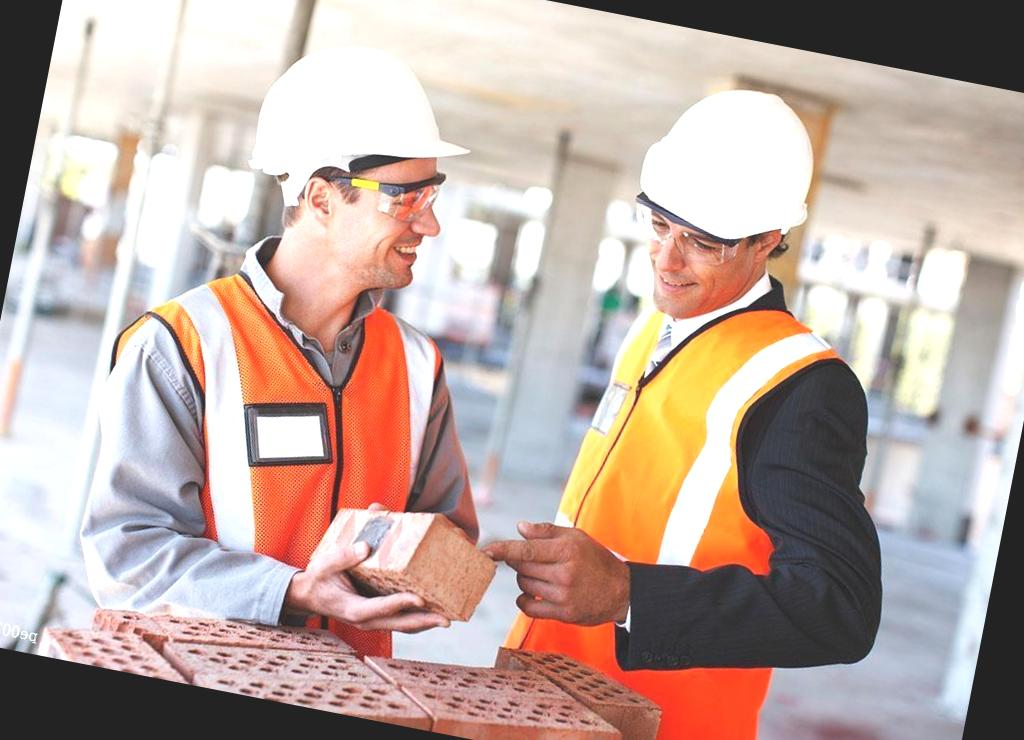helmet: (610, 72, 844, 270), (234, 30, 487, 212)
person: (460, 48, 979, 740), (48, 5, 532, 658)
